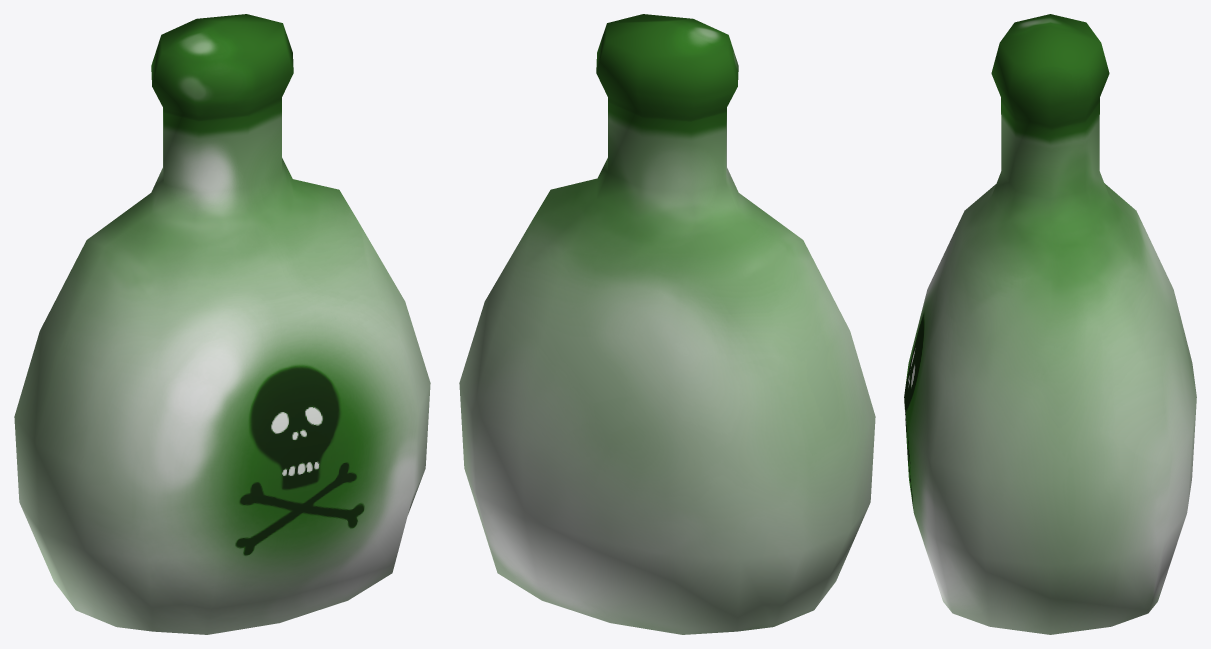
File: ToxicChemicals_mod.fbx
The picture shows the model from 3 angles, left to right: view 1: azimuth 30°, elevation 25°; view 2: azimuth 150°, elevation 25°; view 3: azimuth 270°, elevation 25°; orthographic projection. The views are drawn at different scales.
Parts seen in each view (by area): view 1: Toxic Chemicals; view 2: Toxic Chemicals; view 3: Toxic Chemicals.
Part boxes in pixels (x1,y1,x2,y2): Toxic Chemicals: (14,14,430,634); Toxic Chemicals: (459,14,875,634); Toxic Chemicals: (904,14,1196,634).
Bounding box in the file's own units: 26.74 × 39.58 × 18.65.
